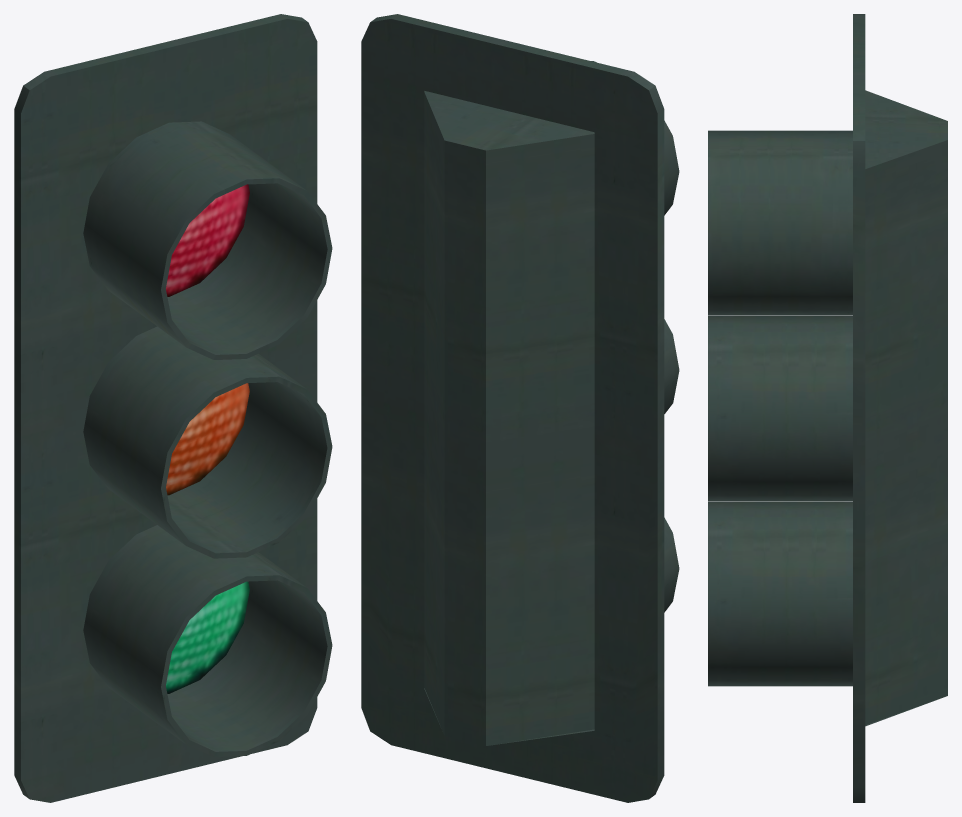
The model's file is SignalTrafficVertical.fbx.
3 views of the same model, side by side, from view 1: azimuth 30°, elevation 25°; view 2: azimuth 150°, elevation 25°; view 3: azimuth 270°, elevation 25° (orthographic). The views are drawn at different scales.
Parts seen in each view (by area): view 1: SignalTrafficVerticalModel; view 2: SignalTrafficVerticalModel; view 3: SignalTrafficVerticalModel.
Boxes of the visible parts, x1,y1,x2,y2 form: SignalTrafficVerticalModel: [14, 14, 332, 802]; SignalTrafficVerticalModel: [361, 14, 679, 802]; SignalTrafficVerticalModel: [708, 14, 947, 802].
Bounding box in the file's own units: 0.6384 × 1.5 × 0.4795.
1 material, 1 textured.
